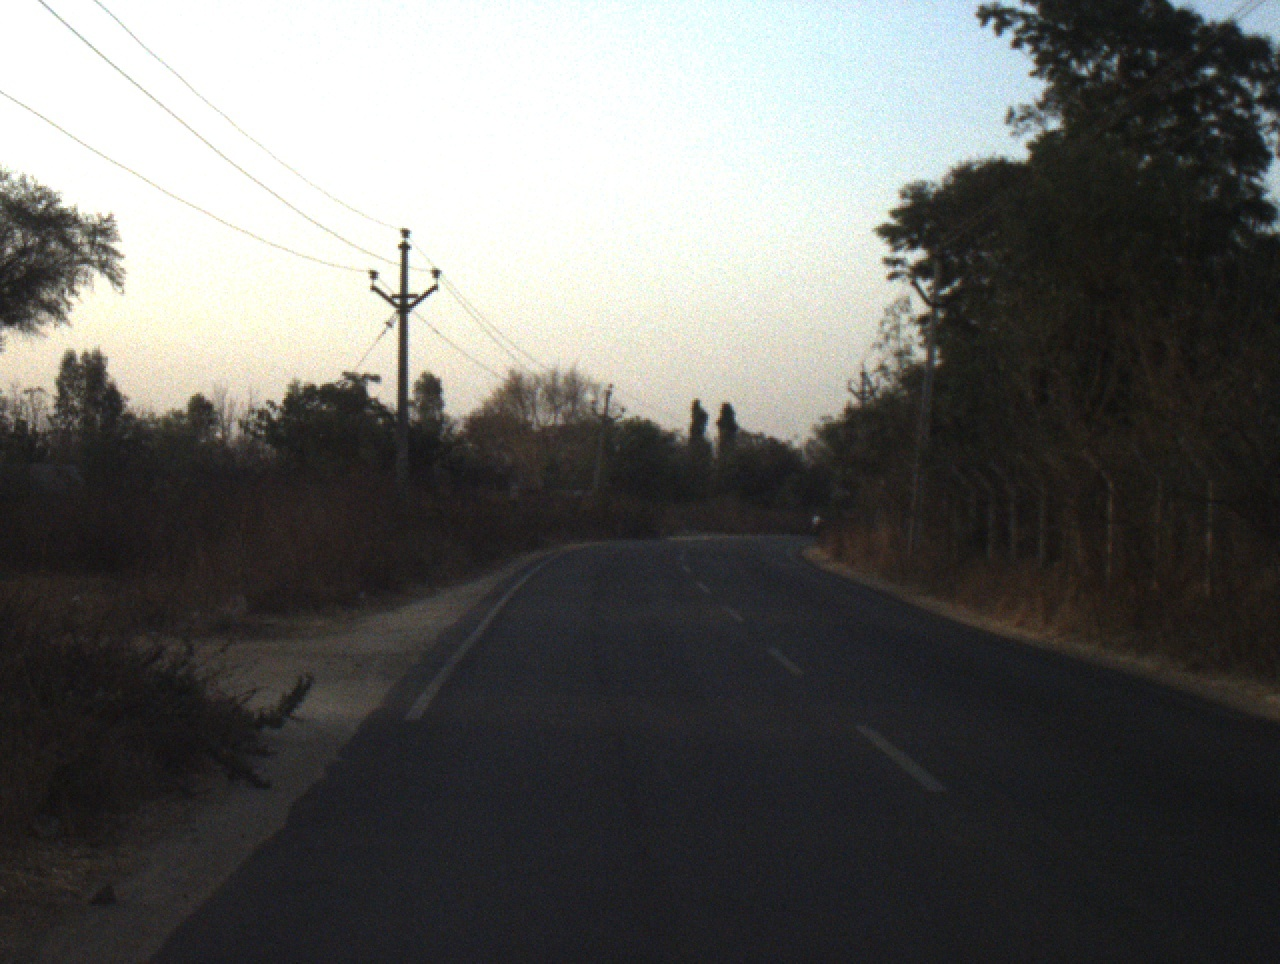motorcycle: (809, 523, 819, 537)
rider: (811, 510, 821, 530)
